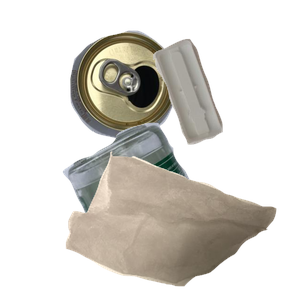glass: (60, 120, 300, 300)
metal: (68, 28, 237, 159)
plastic: (150, 36, 300, 173)
trash: (63, 149, 300, 300)
